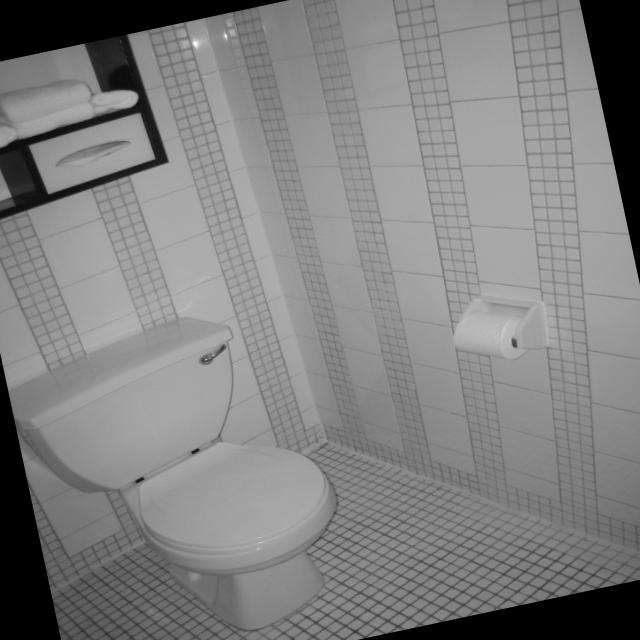box contants: (0, 147, 42, 210)
floor -X: (51, 440, 640, 640)
handle bar: (200, 344, 225, 363)
shelves crop: (0, 34, 168, 219)
tissue box: (55, 143, 127, 165)
tissue paper: (29, 112, 154, 194)
toilet bowl: (8, 317, 335, 630)
toilet lig: (137, 442, 327, 547)
toilet paper: (451, 312, 530, 358)
toilet seat cover: (455, 295, 549, 348)
towel basket: (0, 80, 93, 123), (12, 103, 94, 140), (88, 89, 138, 115), (0, 123, 18, 146)
wall clock: (201, 0, 640, 546), (0, 18, 326, 592)
